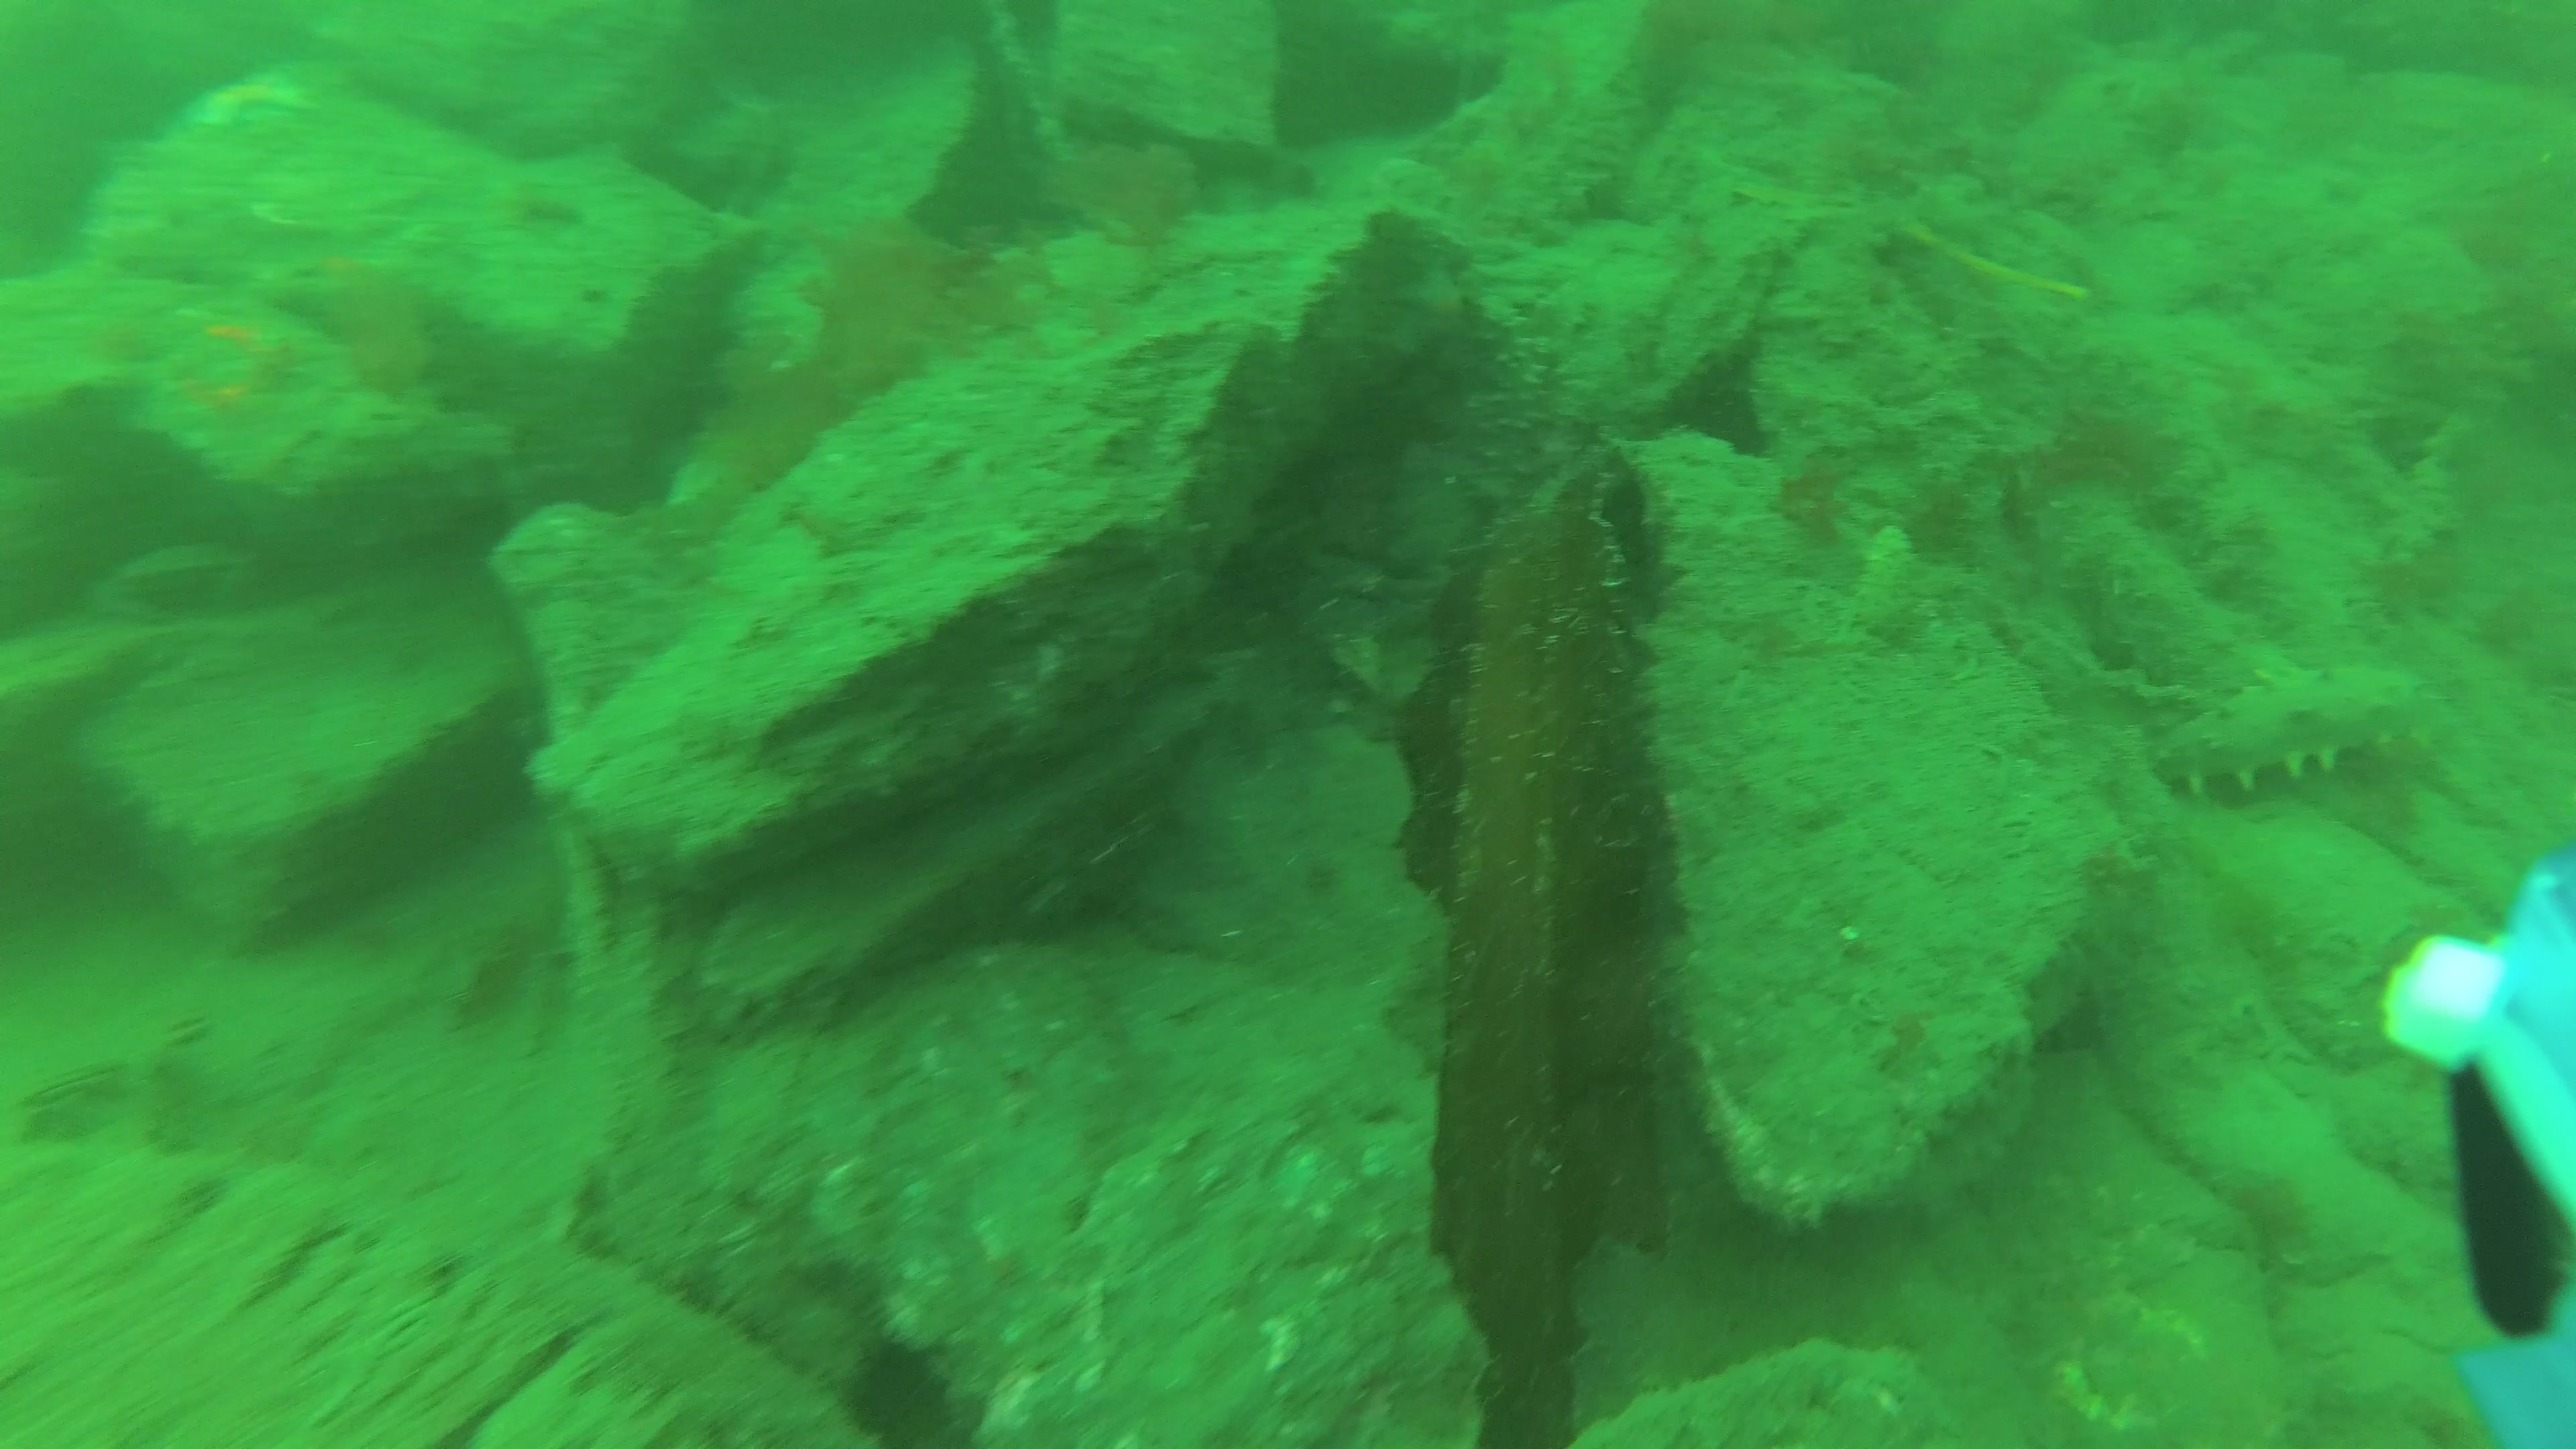holothurian: (2166, 658, 2426, 793)
starfish: (147, 308, 341, 479), (186, 64, 329, 149), (255, 241, 389, 292)
